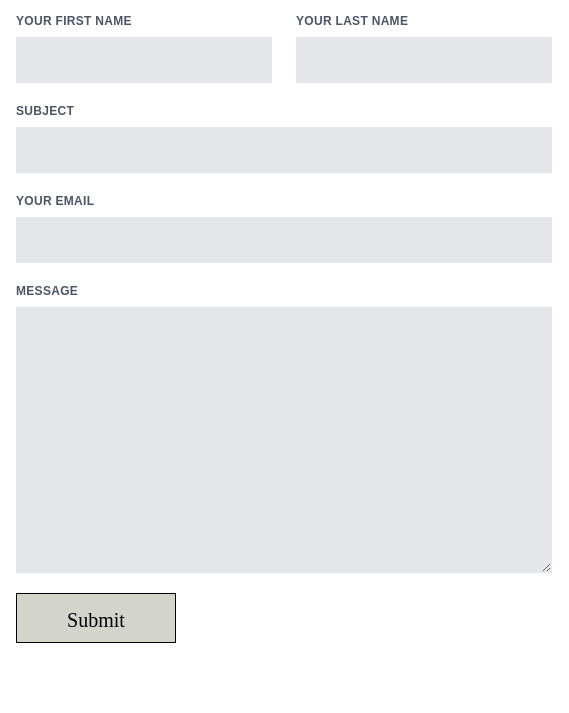
Test: MessageForm › a successful send after a failed validation leaves a clean form (no stale errors)
Click the button "Submit".
click(96, 618)  # box [16,593,176,643]
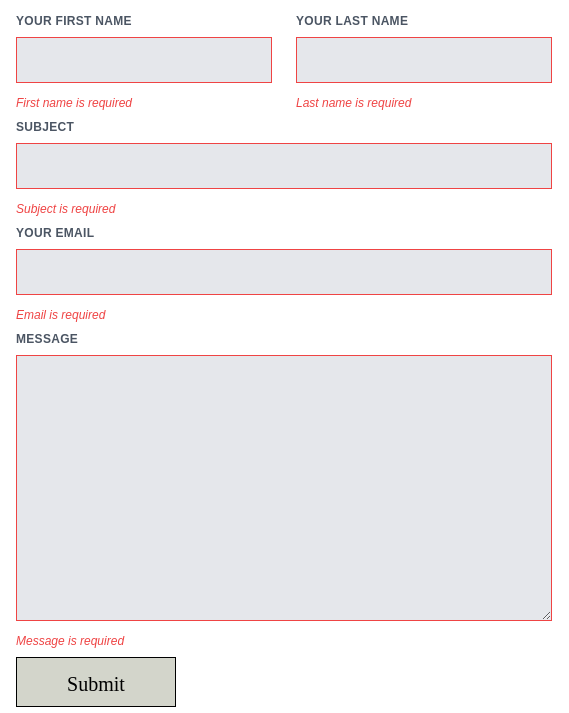
Type "Ada" into the field labelled "Your First Name".
click(144, 60); type("Ada")  # box [16,37,272,83]
Type "Lovelace" into the field labelled "Your Last Name".
click(424, 60); type("Lovelace")  # box [296,37,552,83]
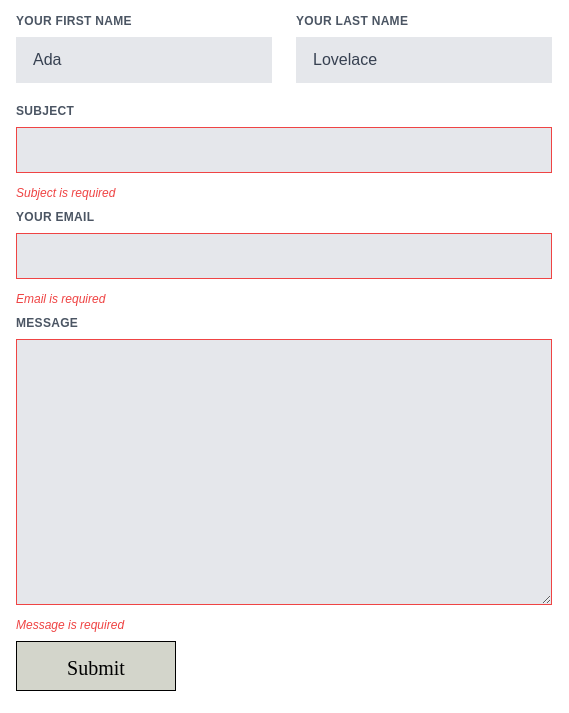
Type "Hello" into the field labelled "Subject".
click(284, 150); type("Hello")  # box [16,127,552,173]
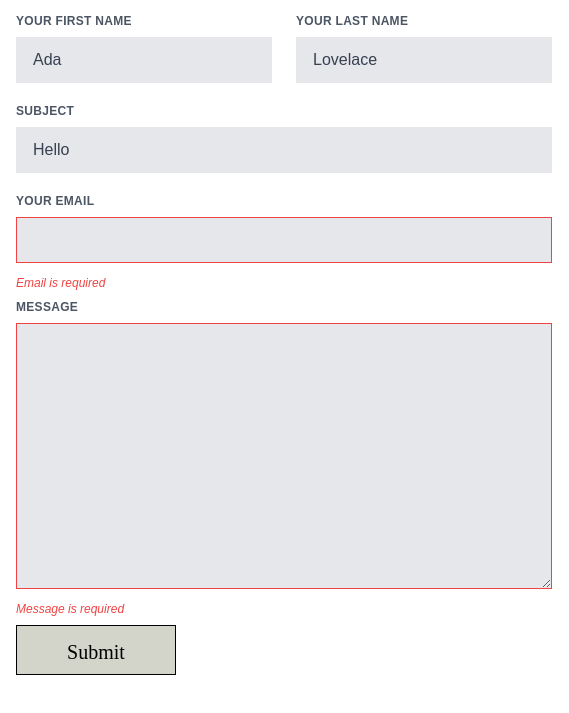
Type "ada@example.com" into the field labelled "Your Email".
click(284, 240); type("ada@example.com")  # box [16,217,552,263]
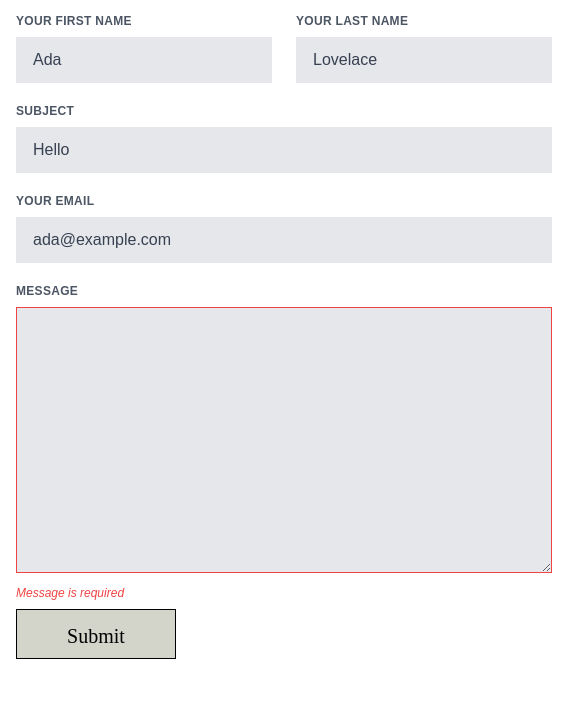
Type "This message is long enough." into the text box labelled "Message".
click(284, 440); type("This message is long enough.")  # box [16,307,552,573]
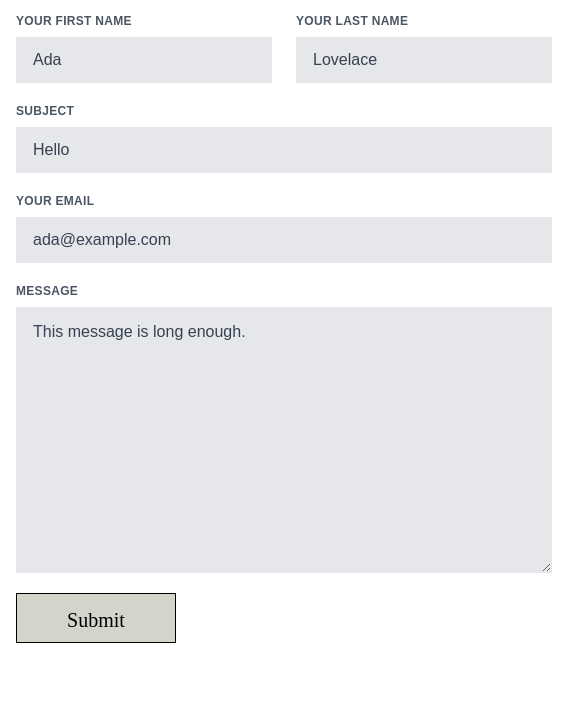
Click the button "Submit".
click(96, 618)  # box [16,593,176,643]
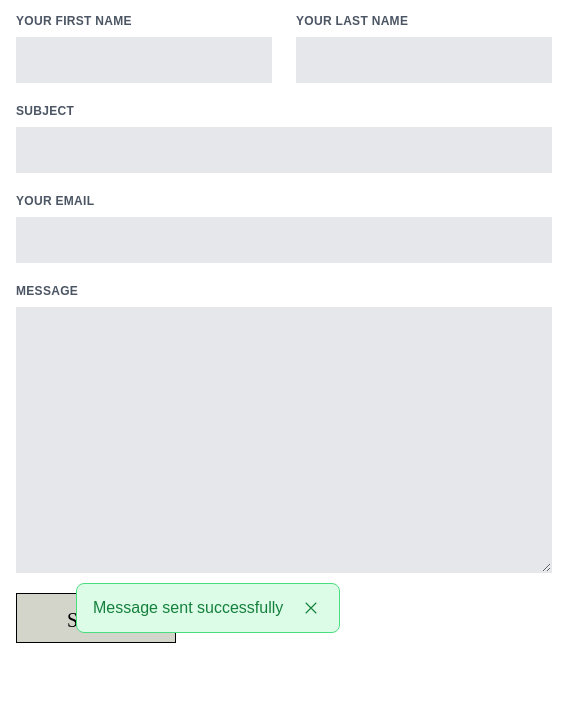
Expected: the text "Message sent successfully" is shown, [93,596,283,620]
